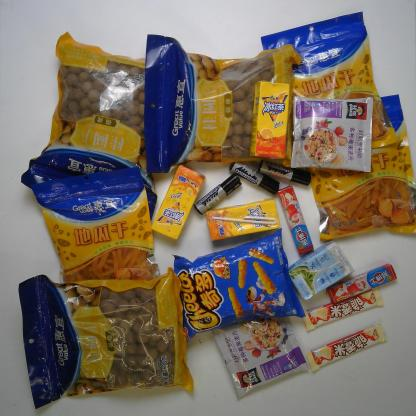Candy: (326, 262, 398, 304), (277, 184, 314, 256)
Chocolate: (304, 323, 388, 373), (300, 286, 386, 332)
Dried Food: (15, 267, 196, 410), (139, 32, 303, 176), (27, 29, 152, 179)
Dried Fruit: (258, 10, 400, 166), (311, 90, 416, 243), (30, 164, 164, 283)
Drink: (150, 164, 205, 242), (246, 79, 293, 162), (204, 198, 282, 242)
Instant Drink: (211, 312, 310, 399), (286, 93, 377, 177)
Milk: (288, 238, 356, 300)
Puffed Food: (170, 226, 307, 340)
Stationery: (192, 172, 242, 216), (228, 161, 280, 196), (256, 158, 314, 188)
